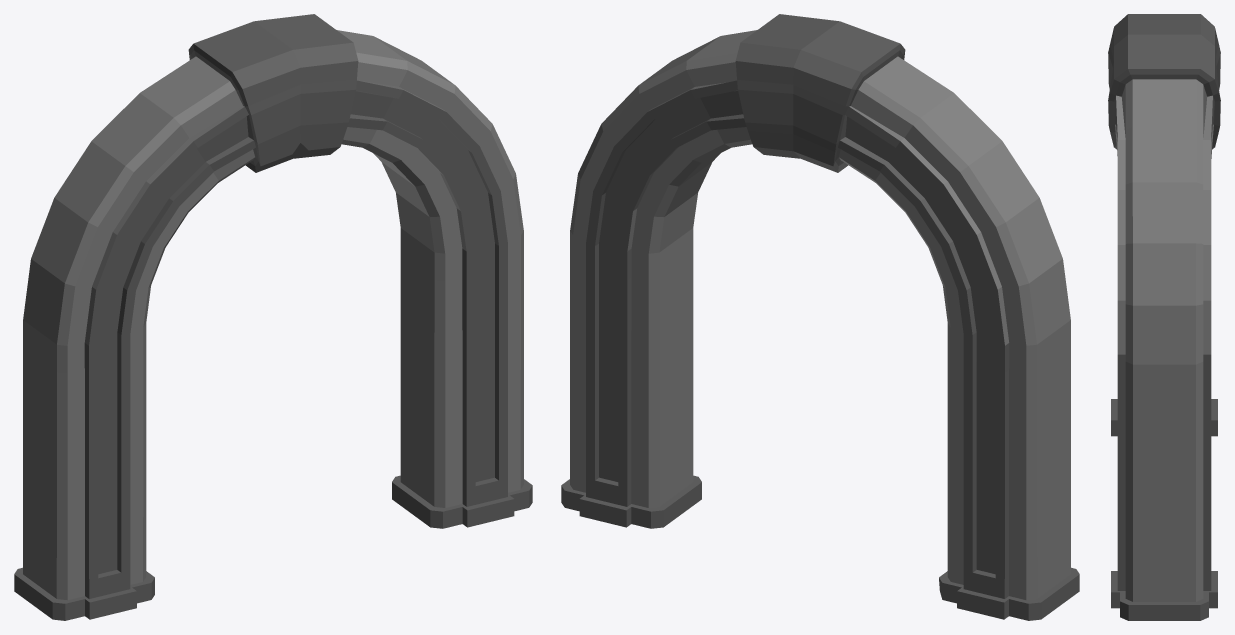
File: Arch_01.fbx
3 renders of one model, left to right at view 1: azimuth 30°, elevation 25°; view 2: azimuth 150°, elevation 25°; view 3: azimuth 270°, elevation 25°, orthographic. The views are drawn at different scales.
Visible parts, largest first — view 1: Arch_01; view 2: Arch_01; view 3: Arch_01.
Boxes of the visible parts, x1=… form: Arch_01: x1=14, y1=14, x2=532, y2=620; Arch_01: x1=561, y1=14, x2=1079, y2=620; Arch_01: x1=1108, y1=14, x2=1220, y2=620.
Bounding box in the file's own units: 242 × 247 × 52.83.
